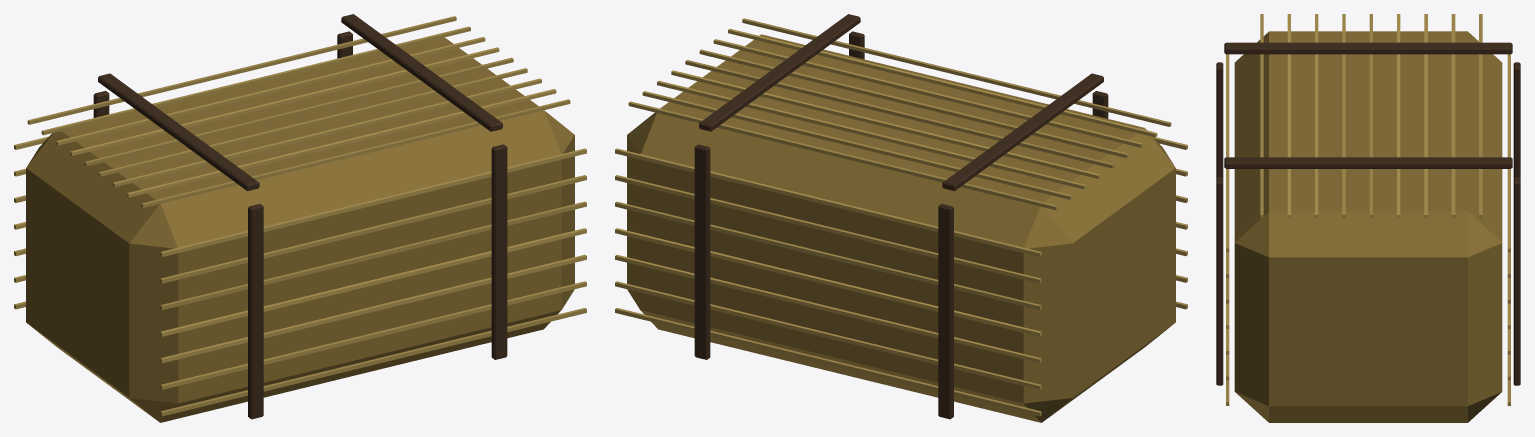
Rendered from hay_bale.glb.
3 renders of one model, left to right at view 1: azimuth 30°, elevation 25°; view 2: azimuth 150°, elevation 25°; view 3: azimuth 270°, elevation 25°, orthographic. The views are drawn at different scales.
Parts seen in each view (by area): view 1: Stone, Timber; view 2: Stone, Timber; view 3: Stone, Timber.
Part boxes in pixels (bbox=[...]): Stone: bbox=[14, 16, 586, 422]; Timber: bbox=[93, 14, 507, 419]; Stone: bbox=[615, 18, 1187, 422]; Timber: bbox=[694, 14, 1108, 419]; Stone: bbox=[1226, 14, 1510, 422]; Timber: bbox=[1216, 42, 1520, 385].
Size of the model in its own units: 1.72 by 0.8825 by 1.06.
